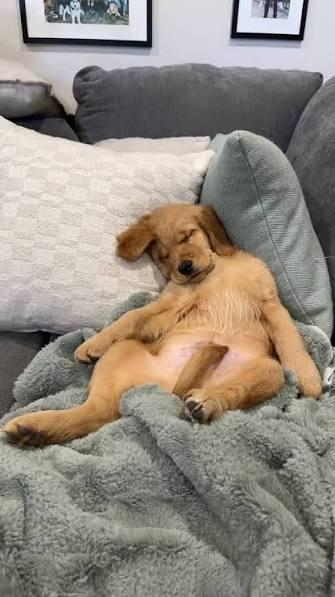puppy-dog: (2, 200, 321, 449)
